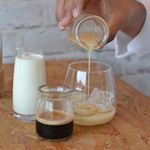cups: (61, 58, 119, 130)
